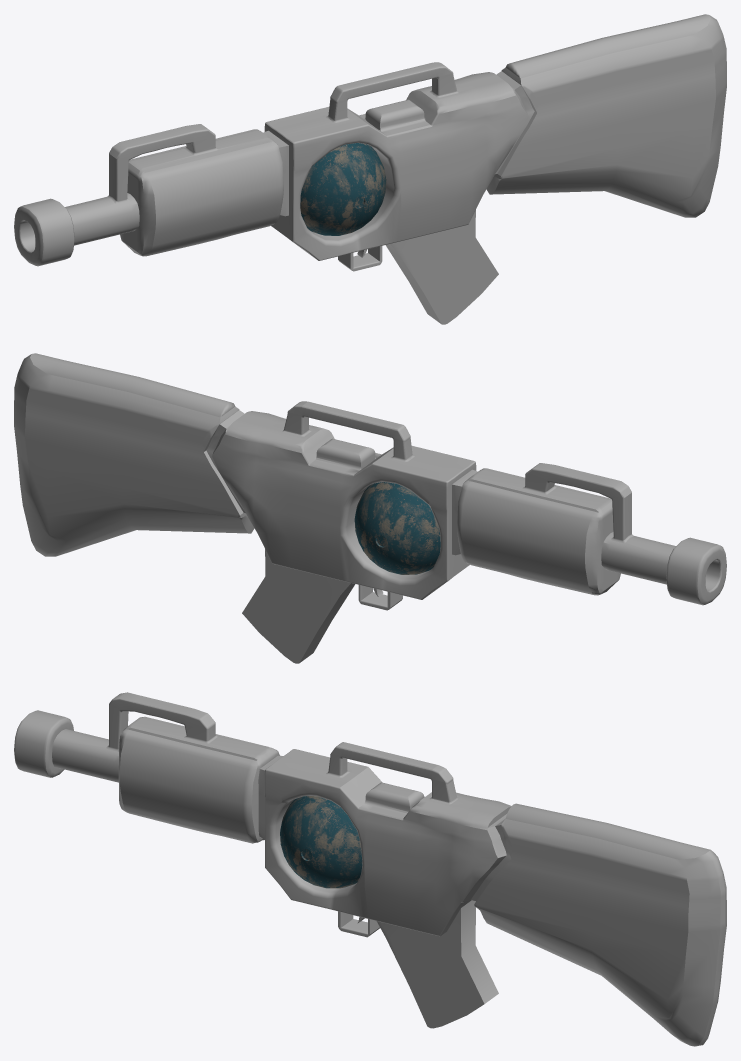
Rendered from Rifle_Animation_Fixed.fbx.
3 views of the same model, one above another, from view 1: azimuth 30°, elevation 25°; view 2: azimuth 150°, elevation 25°; view 3: azimuth 330°, elevation 25° (orthographic).
Parts seen in each view (by area): view 1: Stock, Mid_Rifle, Front_Gun, Bottom, Battery, Handles1, End_Barrel, Barrel, Trigger_cover; view 2: Stock, Mid_Rifle, Front_Gun, Bottom, Battery, Handles1, End_Barrel, Barrel, Trigger_cover; view 3: Stock, Mid_Rifle, Front_Gun, Bottom, Battery, Handles1, End_Barrel, Barrel, Trigger_cover.
Boxes of the visible parts, box(x1,y1,x2,y2) form: Stock: box(486, 14, 726, 217); Mid_Rifle: box(263, 71, 534, 260); Front_Gun: box(120, 129, 283, 256); Bottom: box(385, 210, 498, 324); Battery: box(300, 143, 386, 235); Handles1: box(107, 62, 458, 204); End_Barrel: box(14, 198, 74, 266); Barrel: box(21, 193, 139, 251); Trigger_cover: box(338, 246, 382, 271); Stock: box(14, 353, 254, 556); Mid_Rifle: box(206, 410, 477, 599); Front_Gun: box(457, 468, 620, 595); Bottom: box(242, 549, 355, 663); Battery: box(354, 482, 440, 574); Handles1: box(282, 401, 633, 543); End_Barrel: box(666, 537, 726, 605); Barrel: box(601, 532, 719, 590); Trigger_cover: box(358, 585, 402, 610); Stock: box(474, 803, 726, 1046); Mid_Rifle: box(258, 749, 511, 936); Front_Gun: box(118, 716, 279, 843); Bottom: box(376, 900, 498, 1028); Battery: box(280, 796, 362, 888); Handles1: box(106, 692, 458, 804); End_Barrel: box(14, 710, 73, 777); Barrel: box(52, 729, 118, 782); Trigger_cover: box(338, 911, 379, 937).
Bounding box in the file's own units: 1505 × 526 × 197.
12 materials, 1 textured.
